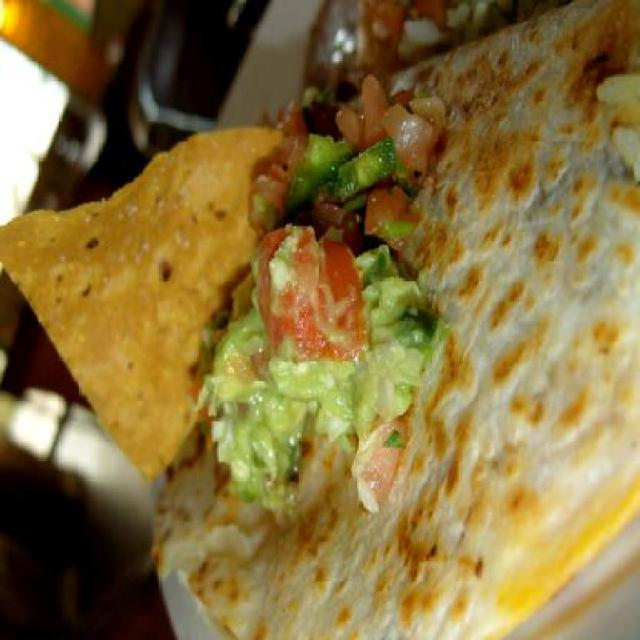guacamole: (202, 205, 428, 517)
nachos: (0, 98, 302, 496)
